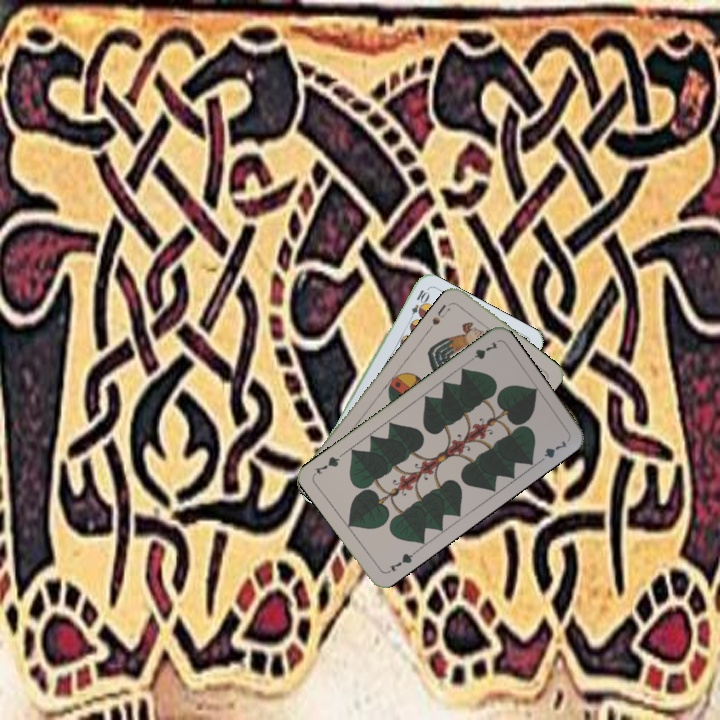E10: (405, 286, 431, 325)
G7: (463, 338, 501, 366), (383, 548, 418, 576)
SU: (428, 299, 455, 328)
